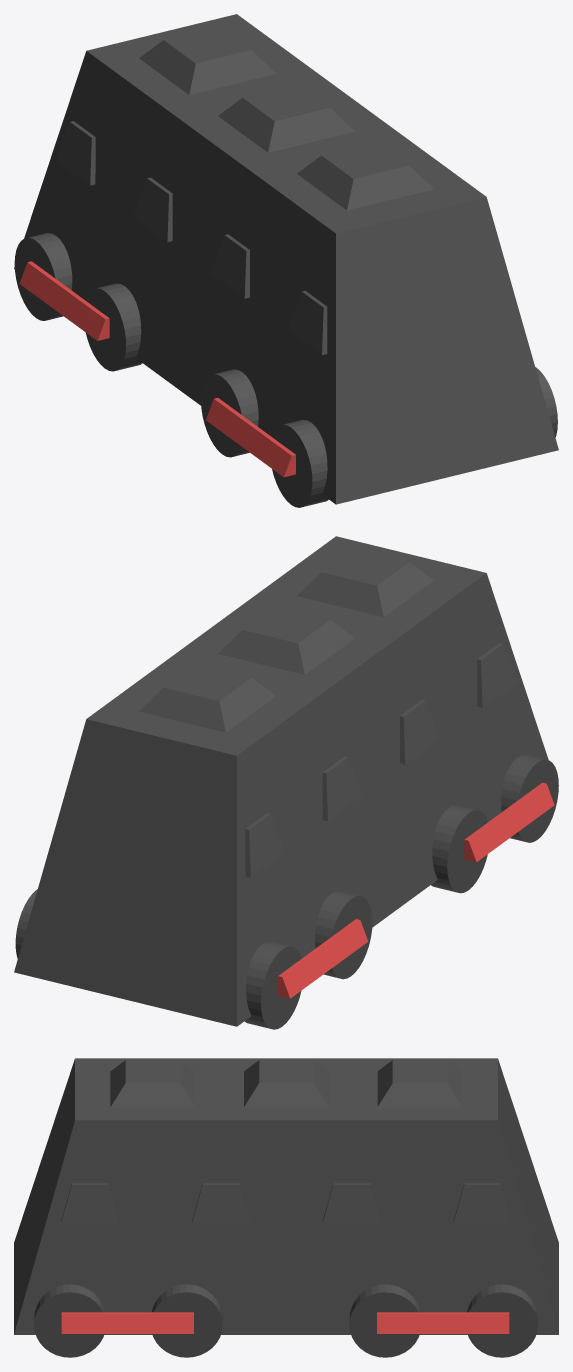
Rendered from Wagon.glb.
3 views of the same model, one above another, from view 1: azimuth 30°, elevation 25°; view 2: azimuth 150°, elevation 25°; view 3: azimuth 270°, elevation 25° (orthographic). The views are drawn at different scales.
Visible parts, largest first — view 1: vagao, roda_direita.001; view 2: vagao, roda_direita.001; view 3: vagao, roda_esquerda.001.
Part boxes in pixels (bbox=[...]): vagao: bbox=[14, 14, 558, 507]; roda_direita.001: bbox=[19, 261, 295, 477]; vagao: bbox=[14, 536, 558, 1029]; roda_direita.001: bbox=[278, 782, 554, 998]; vagao: bbox=[14, 1058, 558, 1357]; roda_esquerda.001: bbox=[61, 1312, 509, 1333].
Bounding box in the file's own units: 9.68 × 9.54 × 20.
